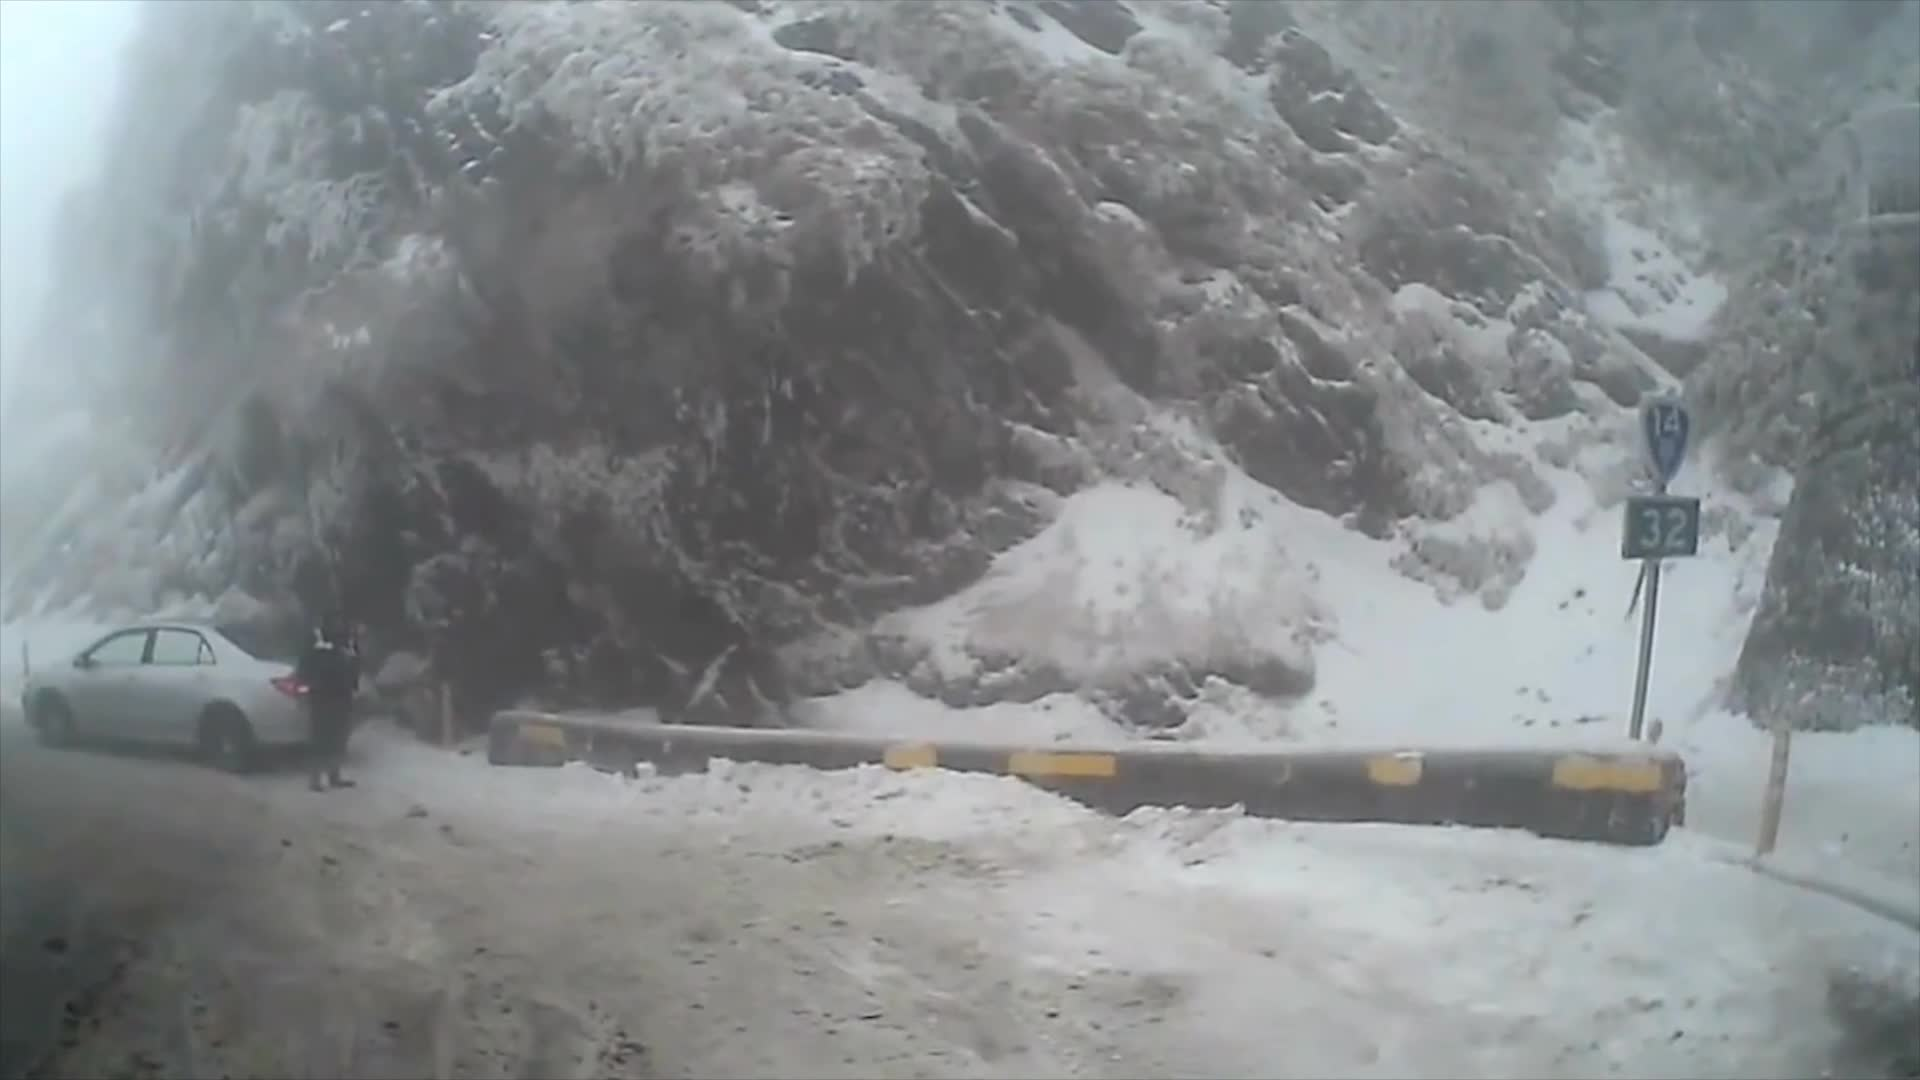pedestrian: (293, 592, 365, 785)
vehicle: (18, 611, 349, 772)
